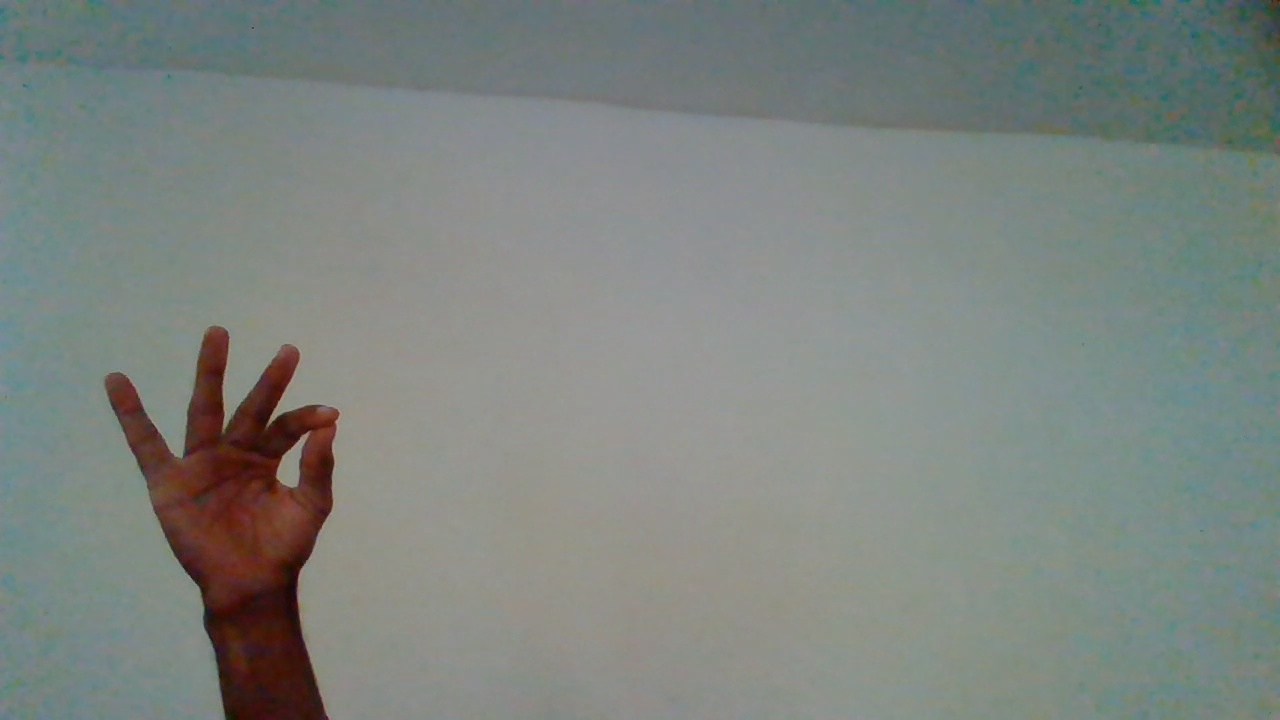le: (97, 322, 348, 698)
